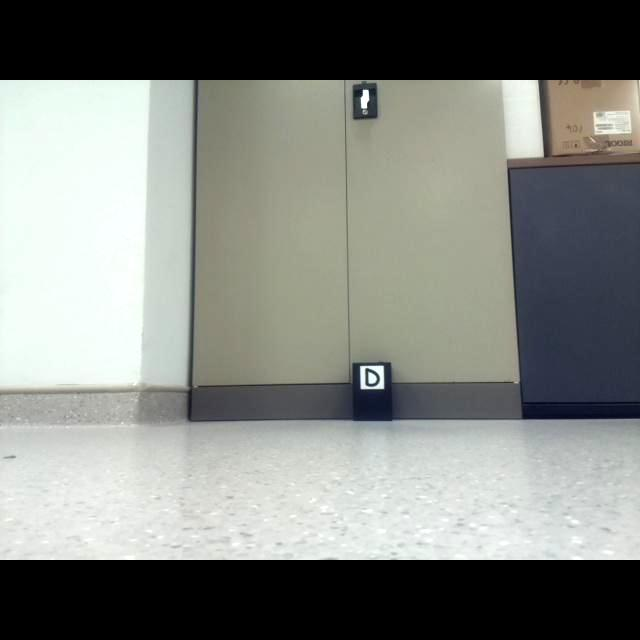D: (364, 368, 381, 388)
